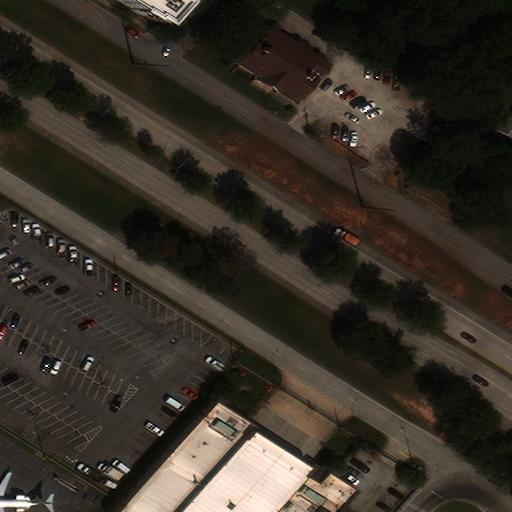Medium Civil Transport: (0, 472, 54, 512)
